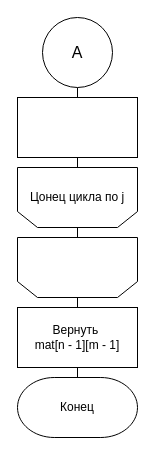
Image size: 155x455. Some labels were removed from this diagram. Each missing label, with the centre of its shape:
"mat[i][j] = min(v1, v2, v3)" goes at [77,127].
"Цонец цикла по i" goes at [77,267].
